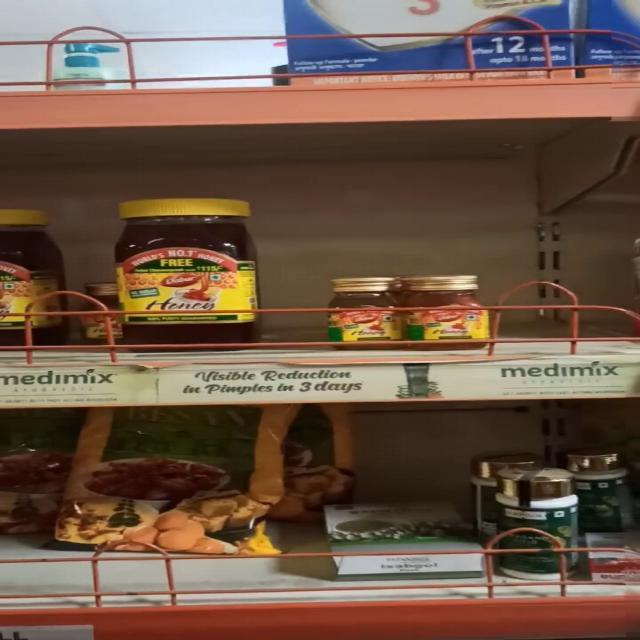Dabur Honey: (128, 204, 264, 345), (398, 278, 492, 346), (332, 276, 394, 350)
